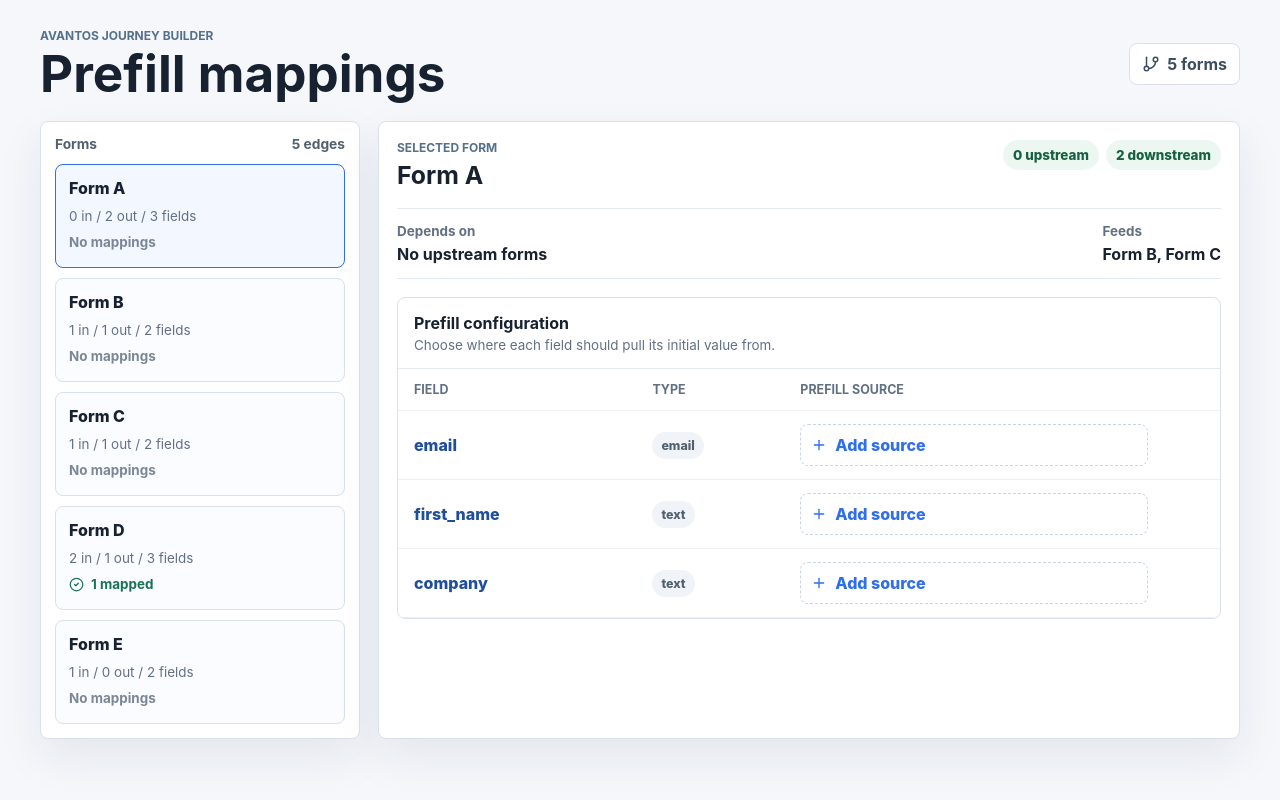
App › renders fetched forms and shows the selected form fields
Expected: the button "Form A 0 in / 2 out / 3 fields No mappings" is shown, [55, 164, 345, 268]
Step 1. Click the button "Form D 2 in / 1 out / 3 fields 1 mapped" → [97, 530], box [55, 506, 345, 610]
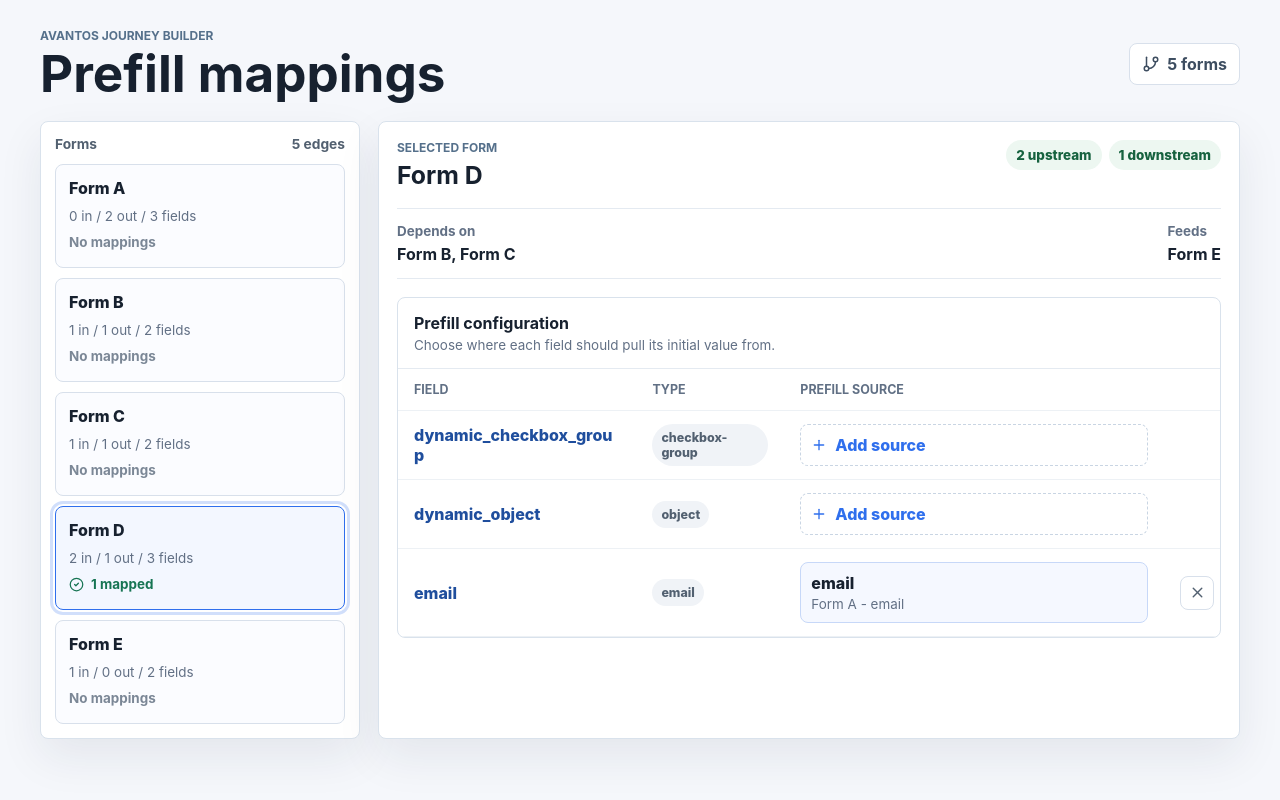
Now the heading "Form D" is shown, box [397, 160, 497, 190]
Now the button "dynamic_checkbox_group" is shown, box [414, 425, 620, 465]
Now the button "dynamic_object" is shown, box [414, 504, 540, 524]
